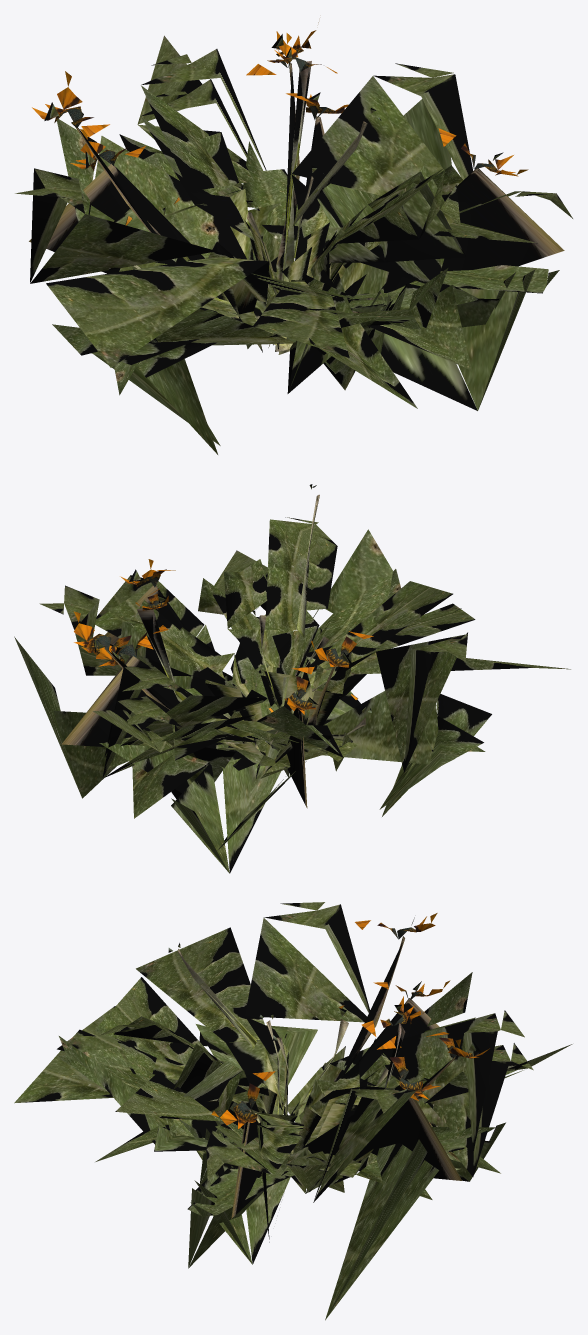
The model's file is flower_a.glb.
The picture shows the model from 3 angles, top to bottom: view 1: azimuth 30°, elevation 25°; view 2: azimuth 150°, elevation 25°; view 3: azimuth 270°, elevation 25°; orthographic projection. The views are drawn at different scales.
Parts seen in each view (by area): view 1: flower_gazania_h_LOD0; view 2: flower_gazania_h_LOD0; view 3: flower_gazania_h_LOD0.
Part boxes in pixels (x1,y1,x2,y2): flower_gazania_h_LOD0: (15, 22, 572, 454); flower_gazania_h_LOD0: (14, 484, 570, 873); flower_gazania_h_LOD0: (14, 902, 572, 1320).
Size of the model in its own units: 0.246 by 0.1625 by 0.2738.
1 material, 1 textured.
